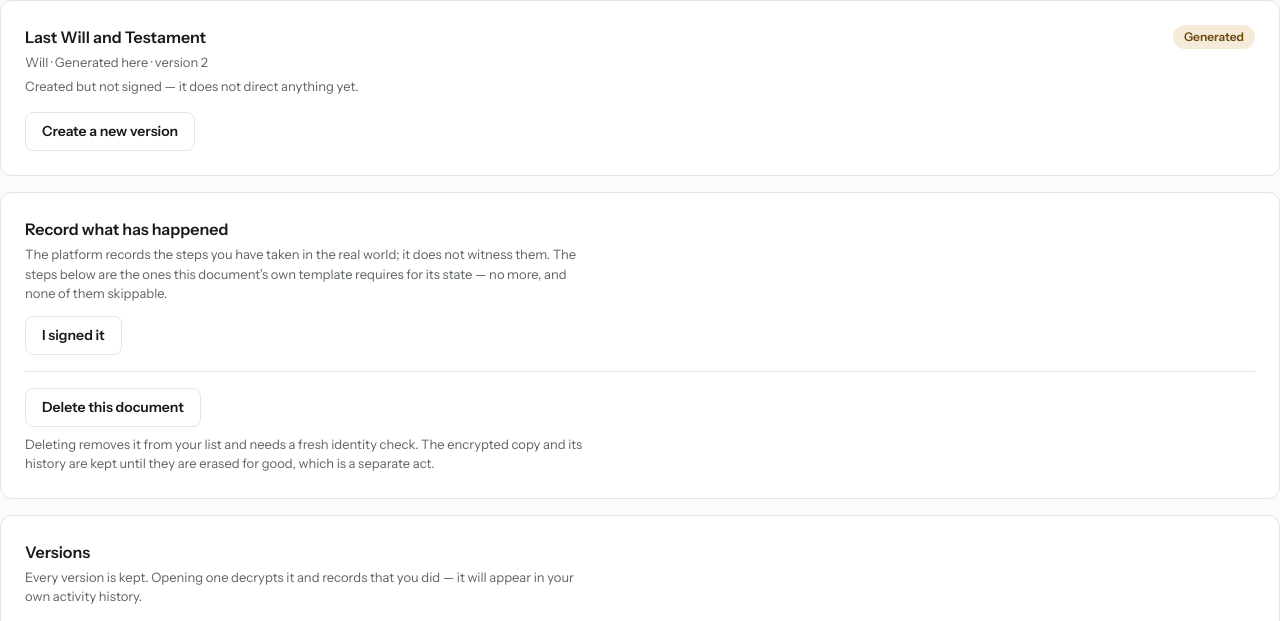
Test case: deletion › still handles a hold applied between page load and the click
The width and height of the screenshot is (1280, 621).
Click the button "Delete this document" at (113, 407), box [25,388,201,426]
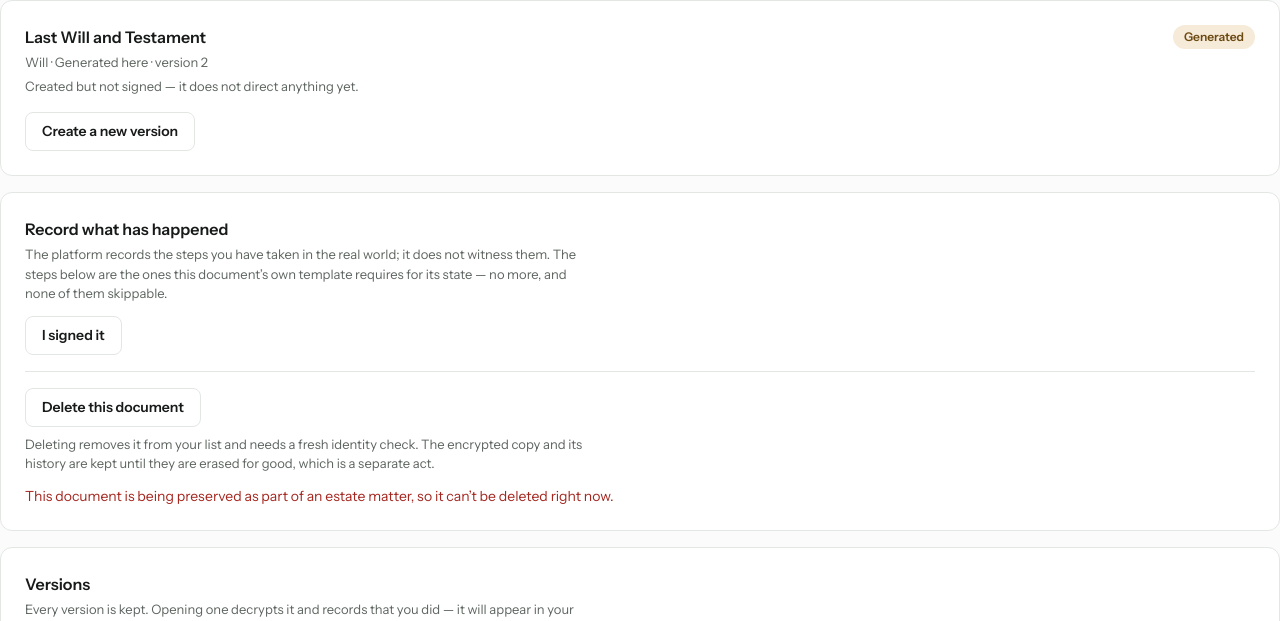
Expected: the text "preserved as part of an estate matter" is shown, [25,486,614,504]
